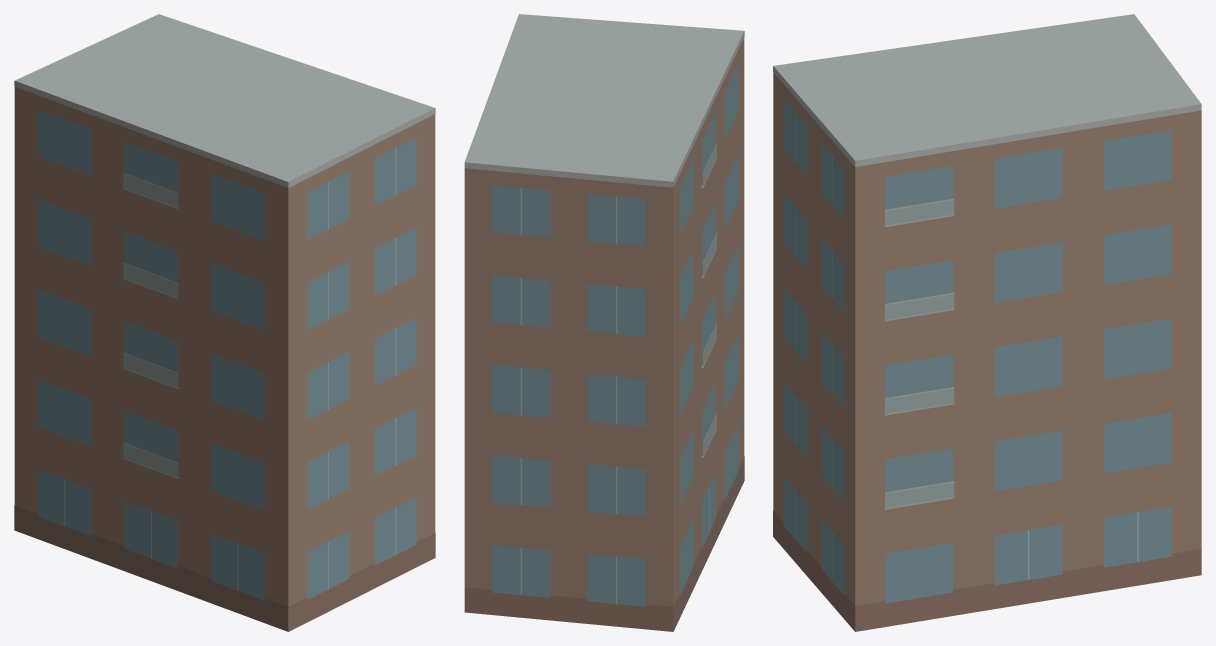
The model's file is survey-upis-32857761.glb.
3 views of the same model, side by side, from view 1: azimuth 30°, elevation 25°; view 2: azimuth 150°, elevation 25°; view 3: azimuth 270°, elevation 25° (orthographic). The views are drawn at different scales.
Parts seen in each view (by area): view 1: survey-upis-32857761.tmp; view 2: survey-upis-32857761.tmp; view 3: survey-upis-32857761.tmp.
Part boxes in pixels (x1,y1,x2,y2): survey-upis-32857761.tmp: (14, 14, 435, 631); survey-upis-32857761.tmp: (464, 14, 744, 631); survey-upis-32857761.tmp: (773, 14, 1201, 631).
Bounding box in the file's own units: 12.46 × 18.6 × 15.35.
